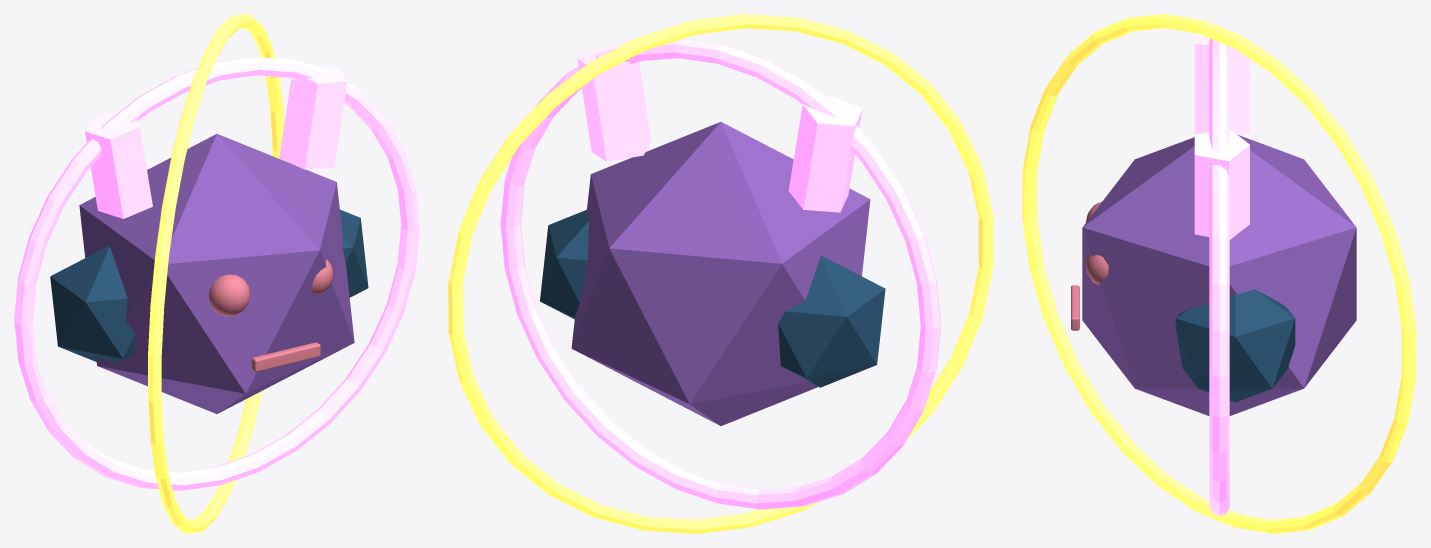
File: guardian.glb
3 renders of one model, left to right at view 1: azimuth 30°, elevation 25°; view 2: azimuth 150°, elevation 25°; view 3: azimuth 270°, elevation 25°, orthographic. The views are drawn at different scales.
Parts seen in each view (by area): view 1: GuardianCore, GuardianOrbitA, GuardianOrbitB, GuardianShellL, GuardianHorn_1.03, GuardianHorn_-1.03, GuardianShellR, GuardianEye_-0.44, GuardianMouth; view 2: GuardianCore, GuardianOrbitA, GuardianOrbitB, GuardianShellL, GuardianHorn_-1.03, GuardianHorn_1.03, GuardianShellR; view 3: GuardianCore, GuardianOrbitB, GuardianOrbitA, GuardianShellR, GuardianHorn_1.03, GuardianHorn_-1.03, GuardianEye_0.44.
Boxes of the visible parts, bbox=[...] form: GuardianCore: bbox=[79, 134, 354, 413]; GuardianOrbitA: bbox=[14, 57, 419, 490]; GuardianOrbitB: bbox=[148, 14, 285, 533]; GuardianShellL: bbox=[50, 246, 135, 361]; GuardianHorn_1.03: bbox=[279, 63, 347, 169]; GuardianHorn_-1.03: bbox=[85, 112, 152, 218]; GuardianShellR: bbox=[340, 209, 368, 297]; GuardianEye_-0.44: bbox=[208, 274, 250, 316]; GuardianMouth: bbox=[251, 342, 320, 371]; GuardianCore: bbox=[571, 122, 870, 425]; GuardianOrbitA: bbox=[500, 38, 941, 509]; GuardianOrbitB: bbox=[448, 14, 993, 533]; GuardianShellL: bbox=[778, 255, 885, 387]; GuardianHorn_-1.03: bbox=[788, 95, 862, 212]; GuardianHorn_1.03: bbox=[577, 46, 651, 161]; GuardianShellR: bbox=[540, 209, 588, 319]; GuardianCore: bbox=[1082, 134, 1356, 415]; GuardianOrbitB: bbox=[1022, 14, 1416, 533]; GuardianOrbitA: bbox=[1209, 38, 1229, 516]; GuardianShellR: bbox=[1175, 289, 1295, 402]; GuardianHorn_1.03: bbox=[1194, 129, 1249, 239]; GuardianHorn_-1.03: bbox=[1194, 34, 1249, 135]; GuardianEye_0.44: bbox=[1085, 254, 1108, 285].
Size of the model in its own units: 4.28 by 4.79 by 3.47.
